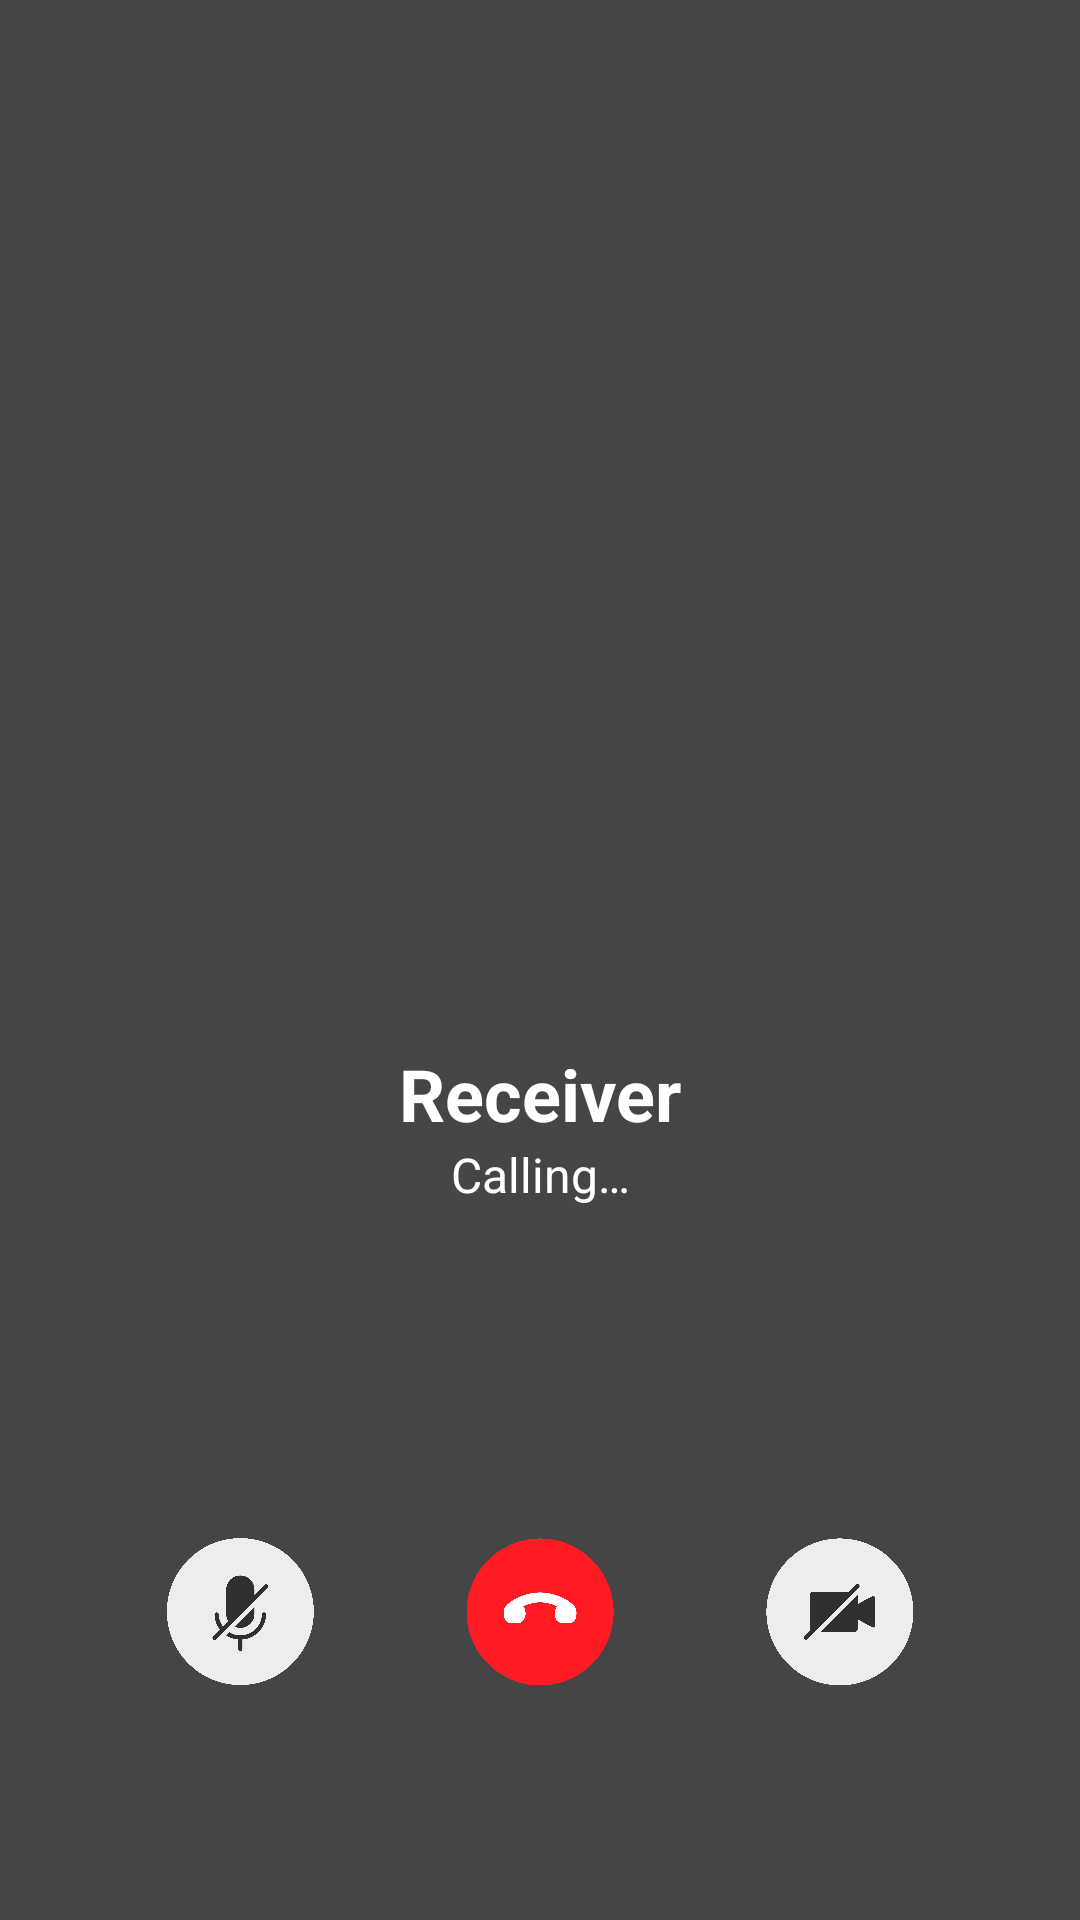

Named icons in this screenshot (1080 x 1920) and their centers, (x,y):
Image of camera off button: (839,1611)
Image of end call button: (540,1611)
Image of microphone silenced button: (240,1611)
